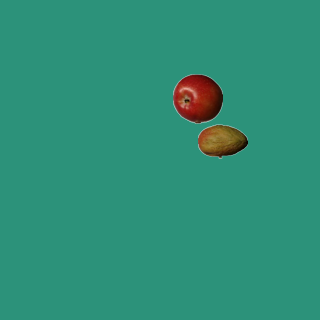Apple Braeburn: (172, 73, 222, 123)
Papaya: (197, 116, 247, 166)
